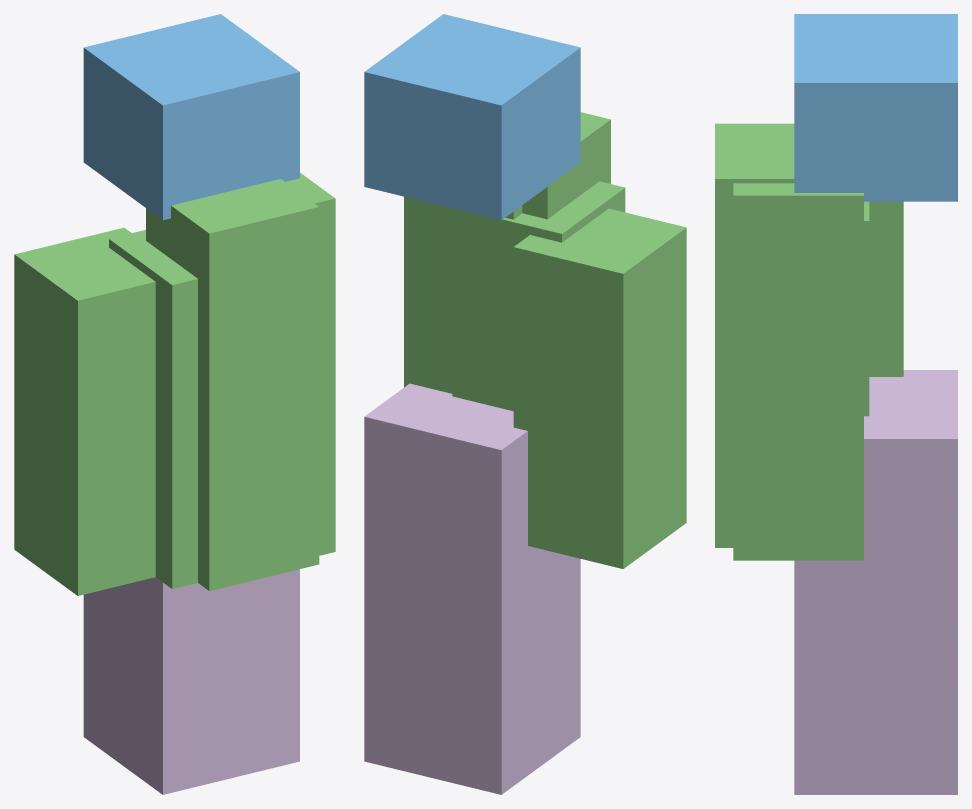
File: Item_Herb_AMF_Dewclaw_Bundle3.glb
3 renders of one model, left to right at view 1: azimuth 30°, elevation 25°; view 2: azimuth 150°, elevation 25°; view 3: azimuth 270°, elevation 25°, orthographic. The views are drawn at different scales.
Parts seen in each view (by area): view 1: Item_Herb_AMF_Dewclaw_Bundle3; view 2: Item_Herb_AMF_Dewclaw_Bundle3; view 3: Item_Herb_AMF_Dewclaw_Bundle3.
Part boxes in pixels (x1,y1,x2,y2): Item_Herb_AMF_Dewclaw_Bundle3: (14,14,335,794); Item_Herb_AMF_Dewclaw_Bundle3: (364,14,686,794); Item_Herb_AMF_Dewclaw_Bundle3: (715,14,957,794).
Size of the model in its own units: 0.0869 by 0.24 by 0.0742.
